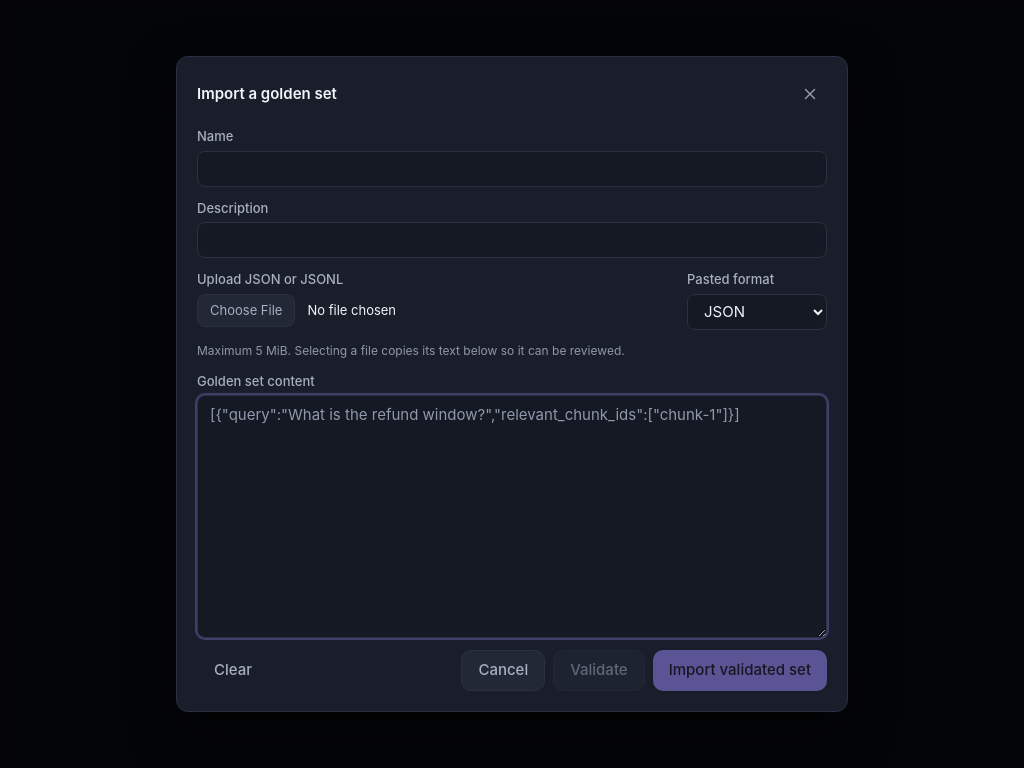
Test case: GoldenSetImporter › renders a server validation failure
Type keys "{}"
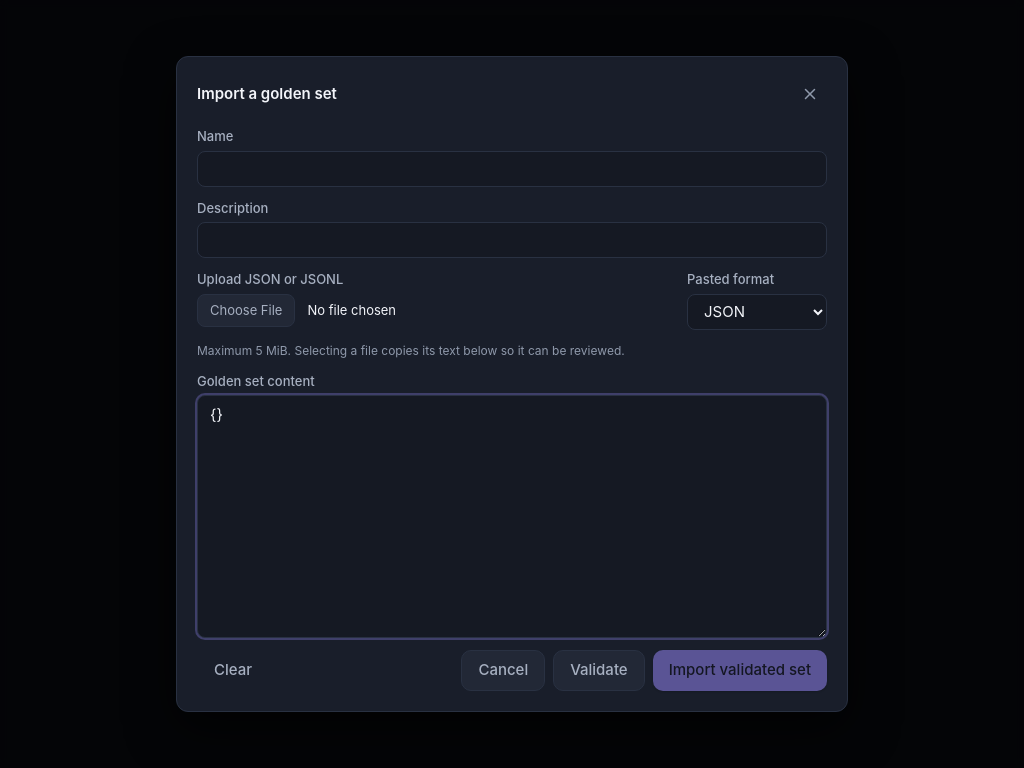
Click the button "Validate" at (599, 671), box [553,650,645,691]
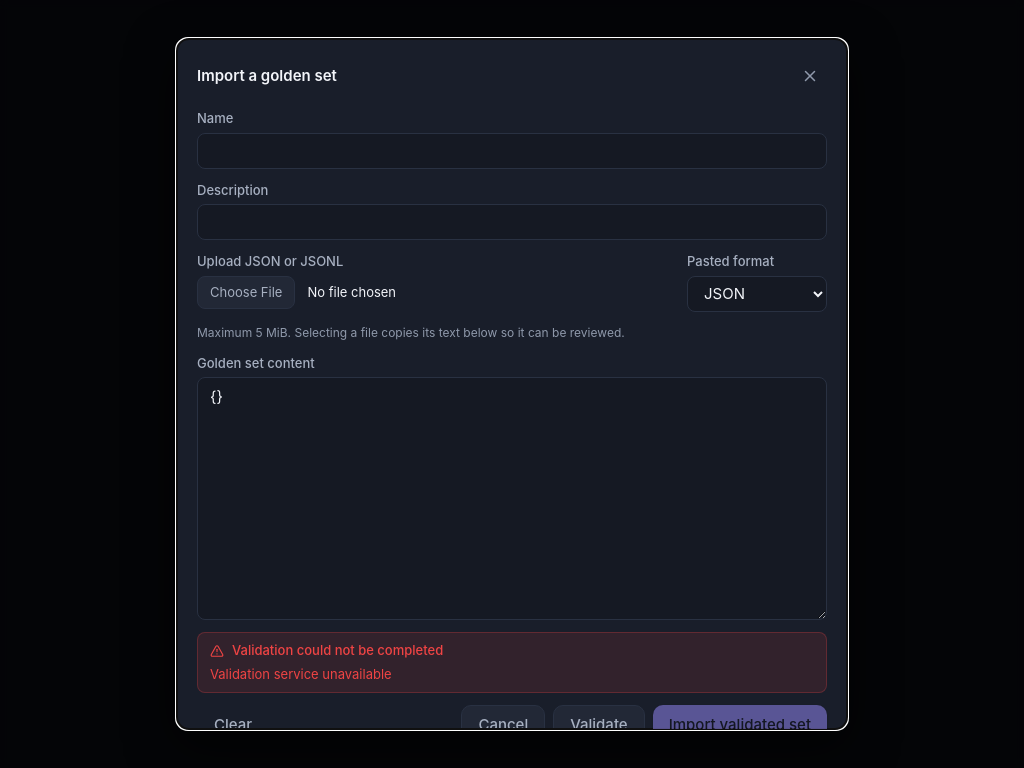
Check: the text "Validation service unavailable" is shown, box [210,666,392,682]
